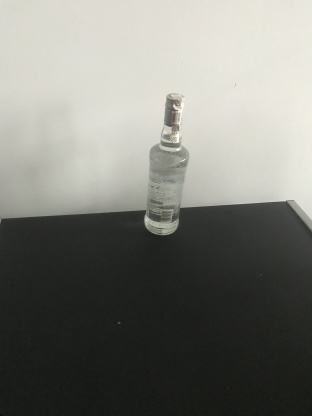nakretka: (162, 90, 186, 127)
